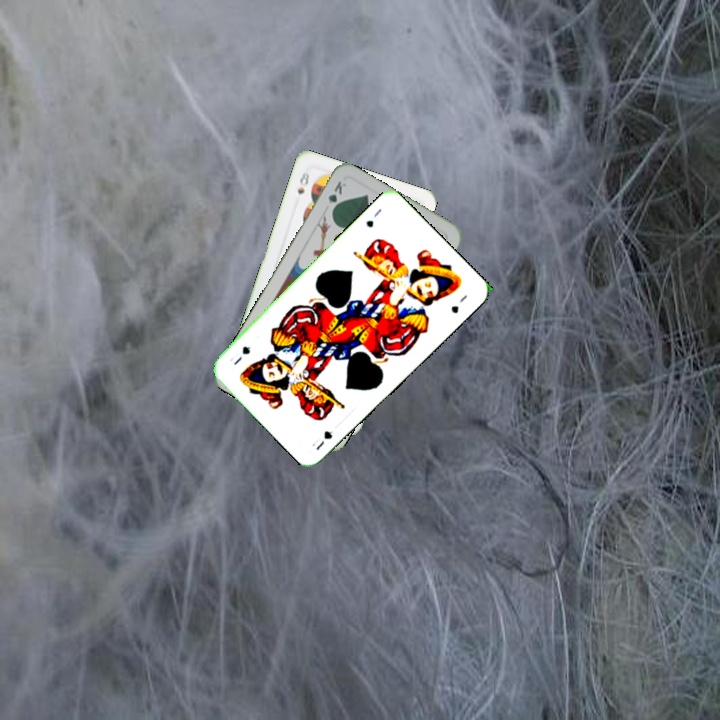GK: (324, 176, 349, 215)
GU: (312, 426, 335, 453), (362, 204, 384, 230)
S8: (293, 165, 312, 197)
